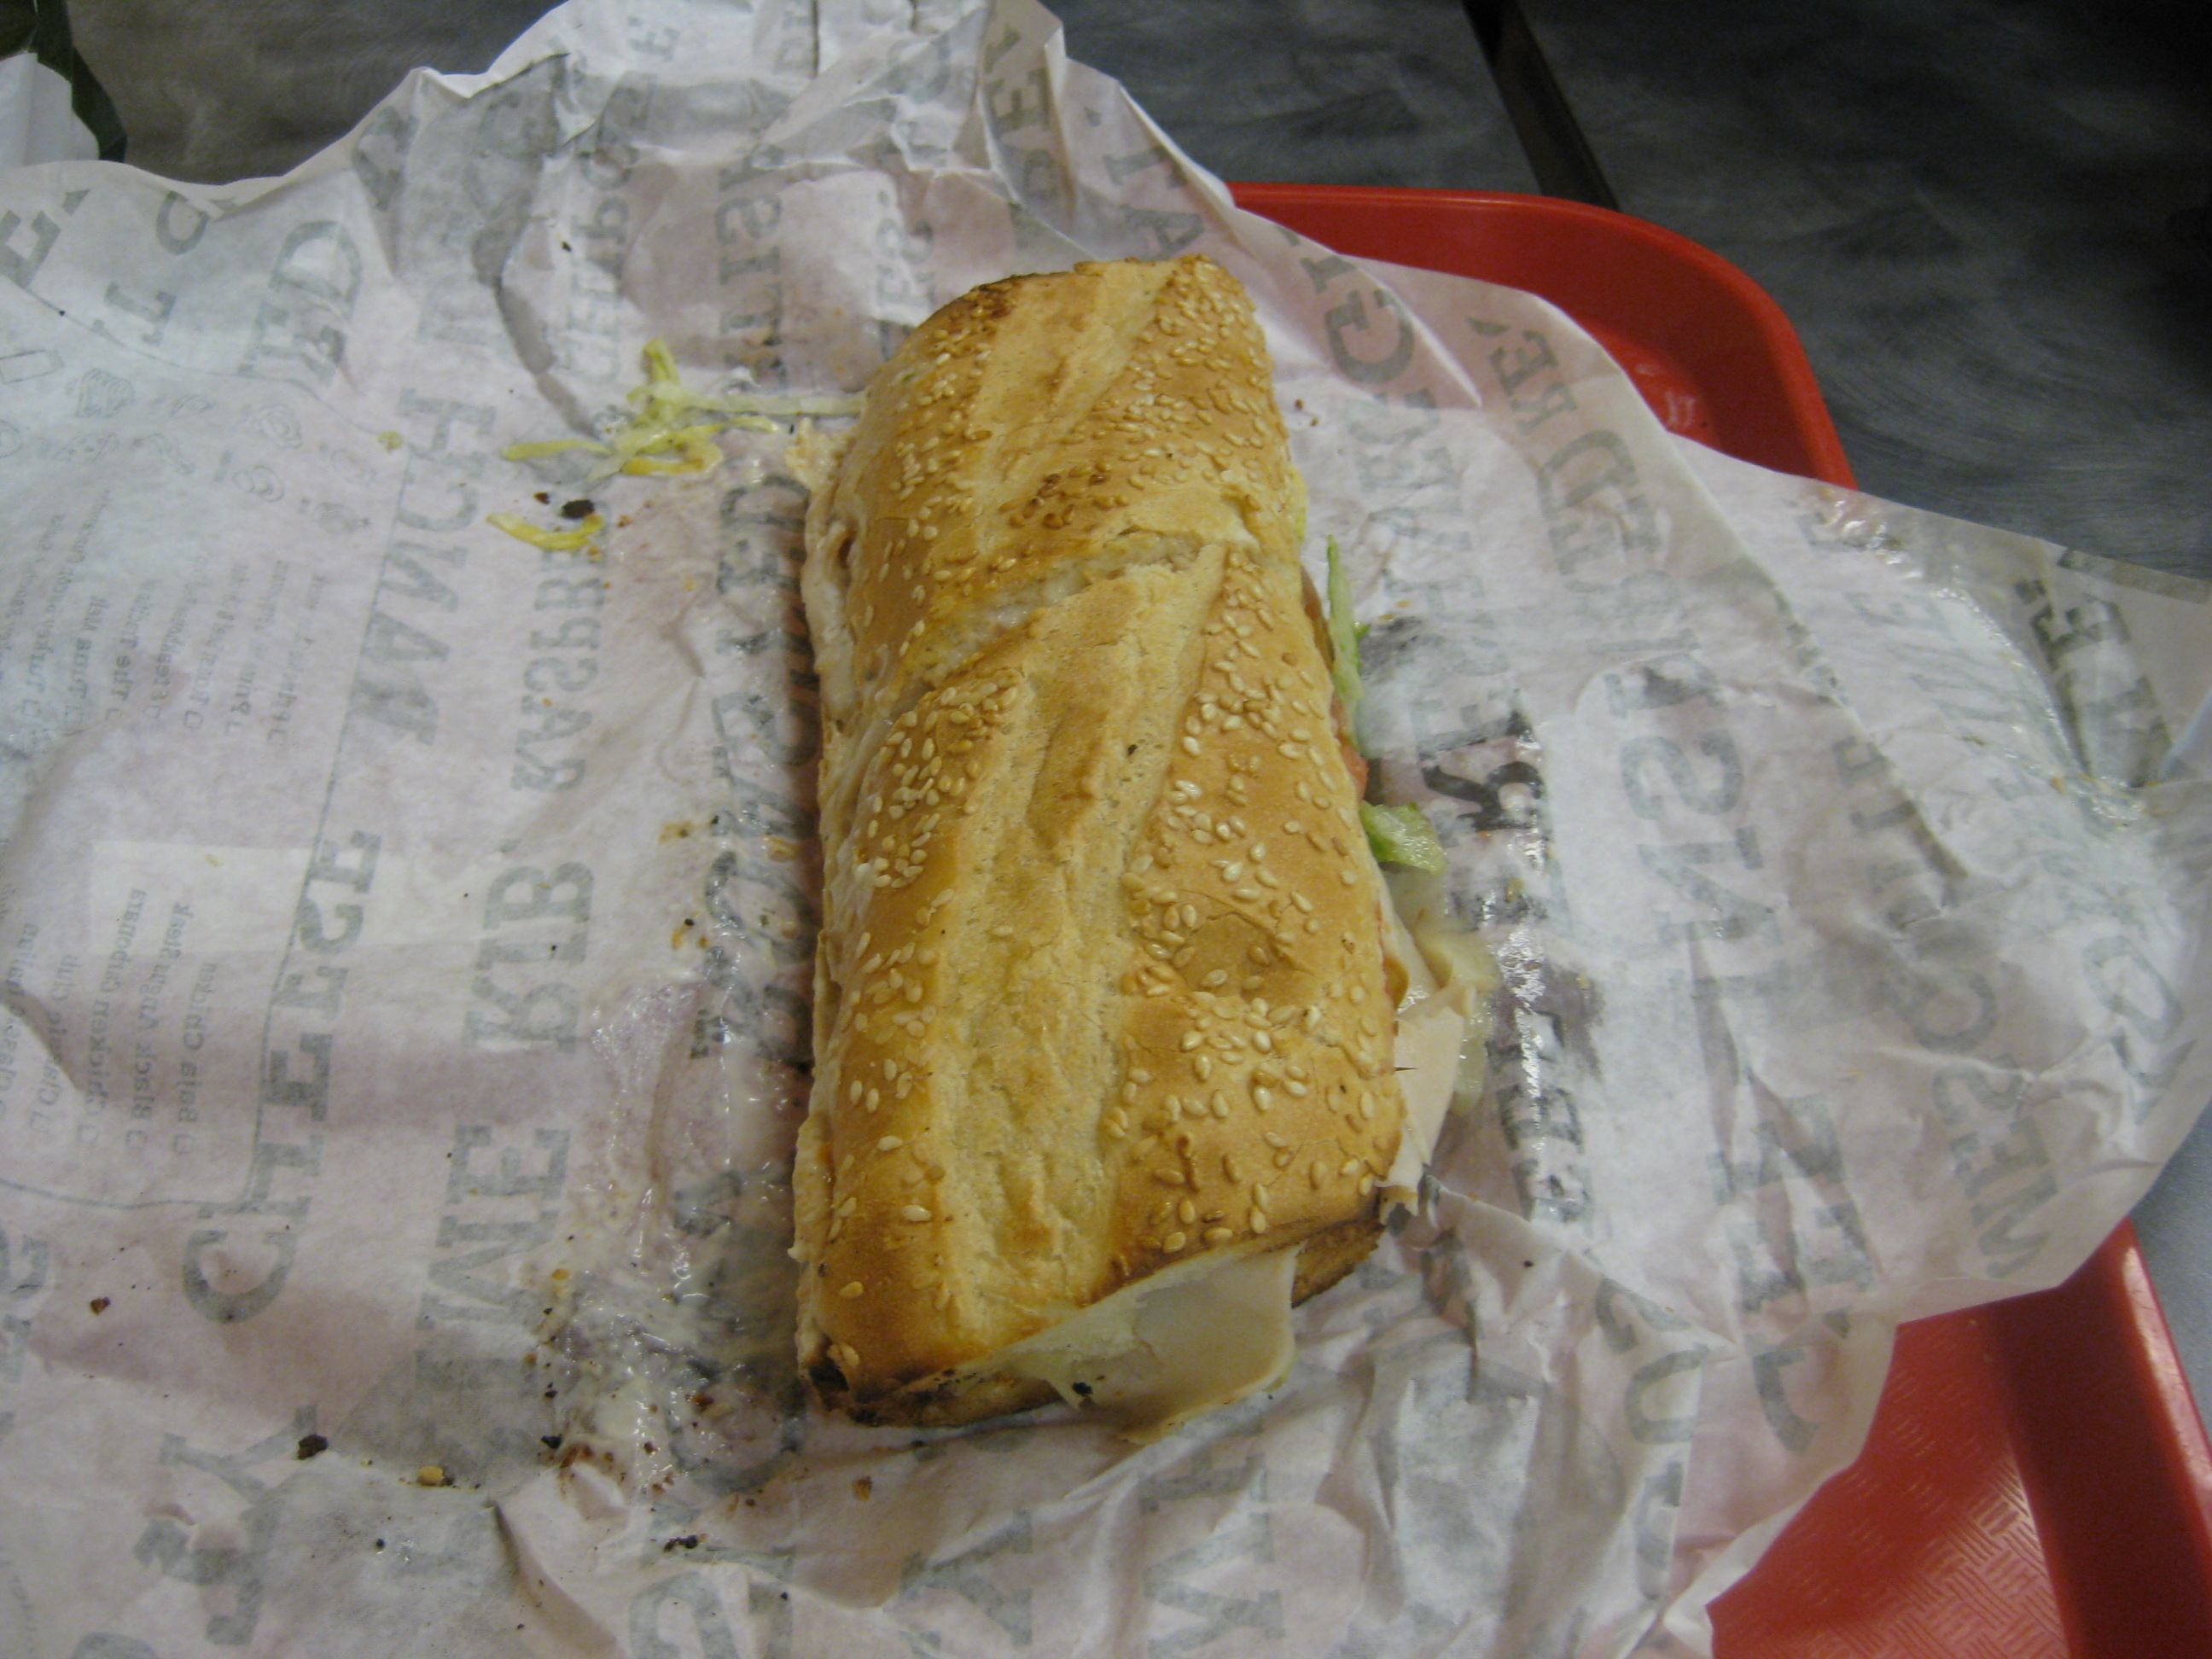sub: (733, 187, 1463, 1424)
